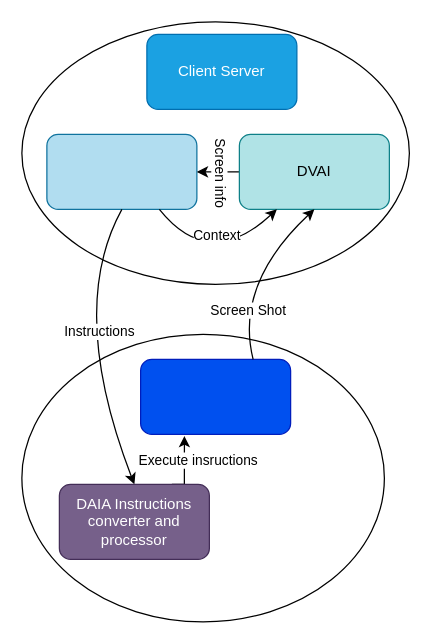
Some shapes in this 431 by 644 pixel diagram are drawn without their labels. The box of each missing label's shape, as (x1, y1, x2, y2) in pixels:
DAIA: (46, 133, 197, 209)
User PC (Server): (139, 358, 291, 434)
